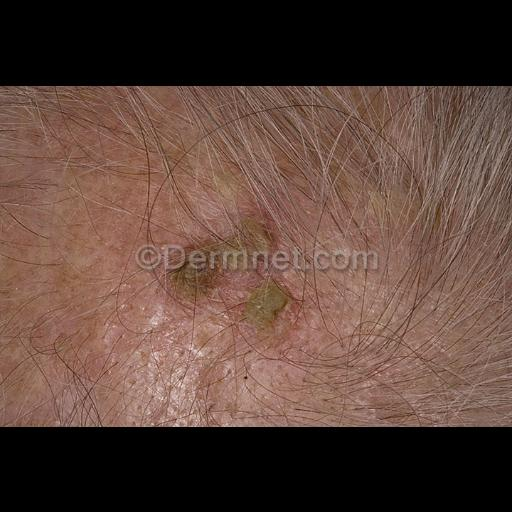Skin_Lesion: (158, 218, 320, 338)
